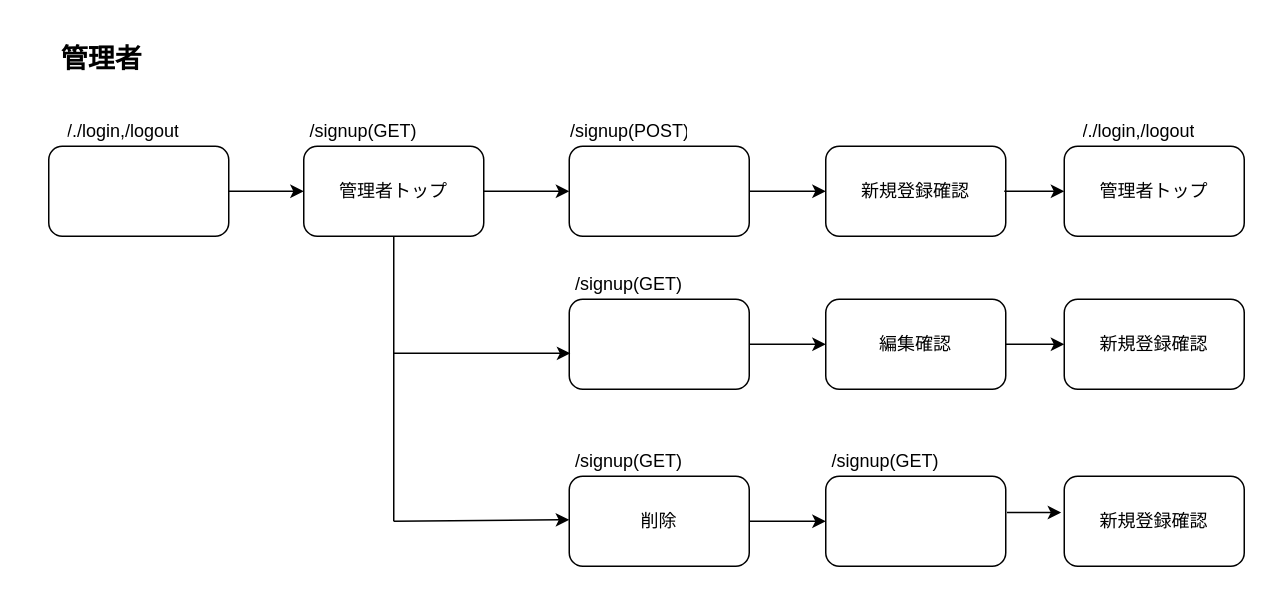
The diagram is 1271 pixels wide and 593 high, and some of its shapes have lost their labels. The centre of each missing label's shape, as x and y in pixels:
ログイン画面: the point at 138,190
削除確認: the point at 915,520
新規登録: the point at 658,190
編集: the point at 658,343
